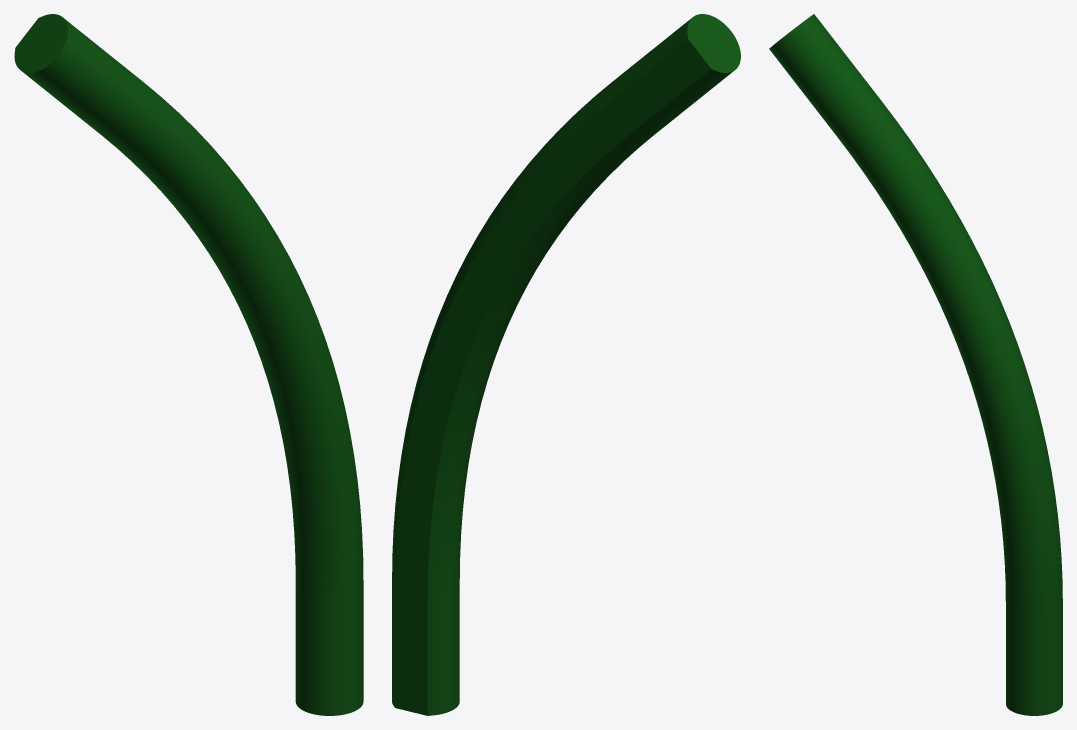
The model's file is stem_3B_45_L.glb.
3 renders of one model, left to right at view 1: azimuth 30°, elevation 25°; view 2: azimuth 150°, elevation 25°; view 3: azimuth 330°, elevation 25°, orthographic. The views are drawn at different scales.
Parts seen in each view (by area): view 1: stem_3B_45_L; view 2: stem_3B_45_L; view 3: stem_3B_45_L.
Part boxes in pixels (x1=…): stem_3B_45_L: x1=14, y1=14, x2=363, y2=715; stem_3B_45_L: x1=392, y1=14, x2=740, y2=715; stem_3B_45_L: x1=769, y1=14, x2=1062, y2=715.
Size of the model in its own units: 0.0415 by 0.0879 by 0.00666.
